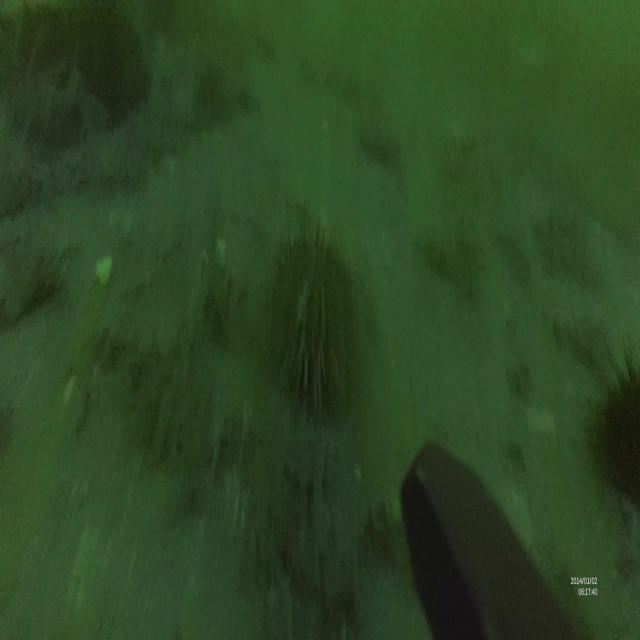echinus: (268, 232, 355, 416), (590, 337, 640, 508)
